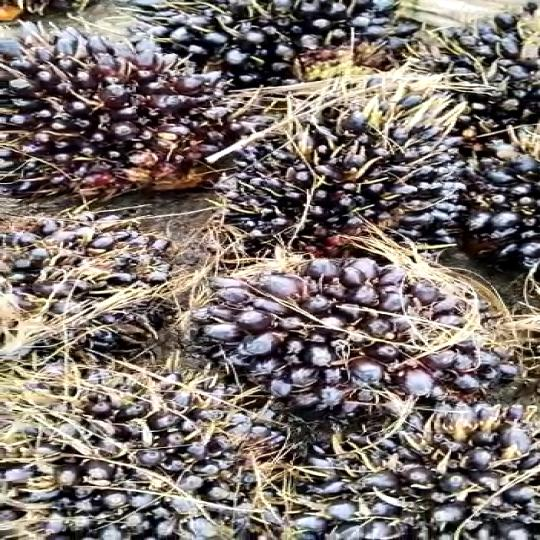mentah: (0, 377, 540, 540), (4, 16, 262, 230), (199, 247, 503, 418), (195, 77, 473, 260), (0, 190, 196, 364)
